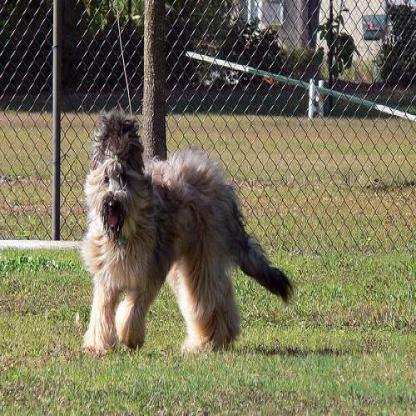briard: (78, 111, 294, 362)
